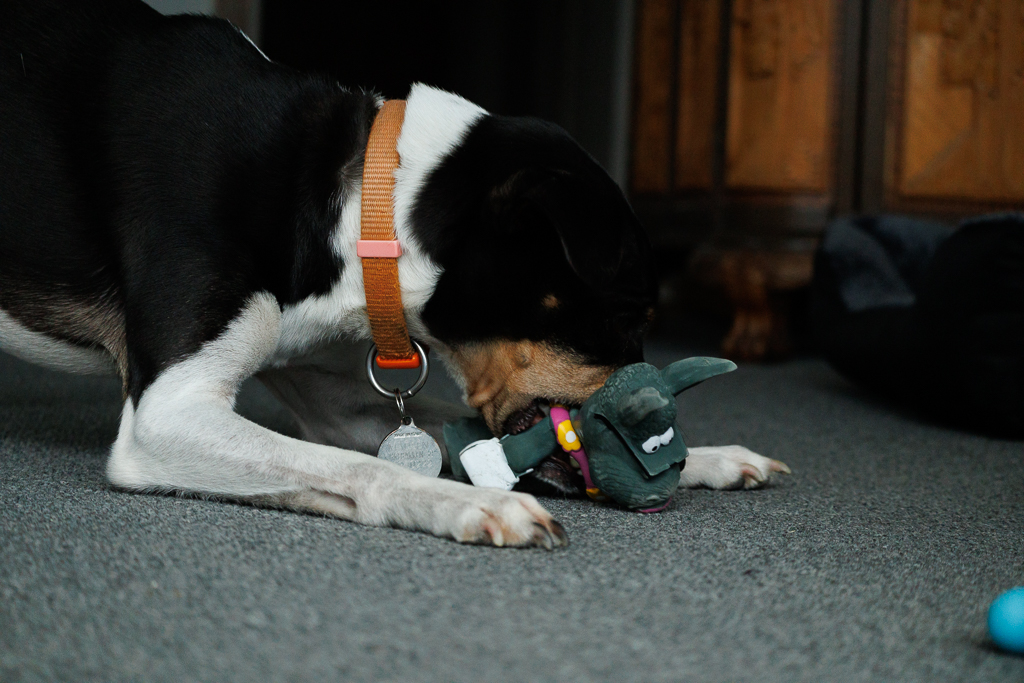Dog: (0, 0, 805, 557)
Humanoid: (415, 327, 759, 520)
